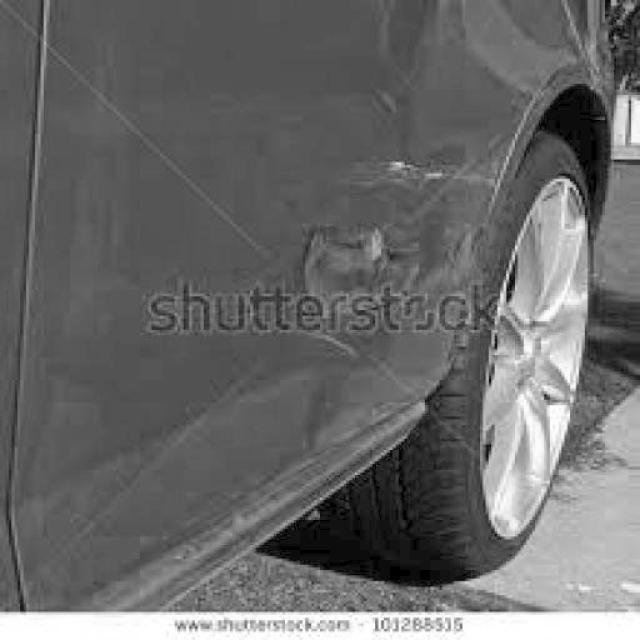car damage: (186, 193, 494, 576), (337, 0, 519, 188)
